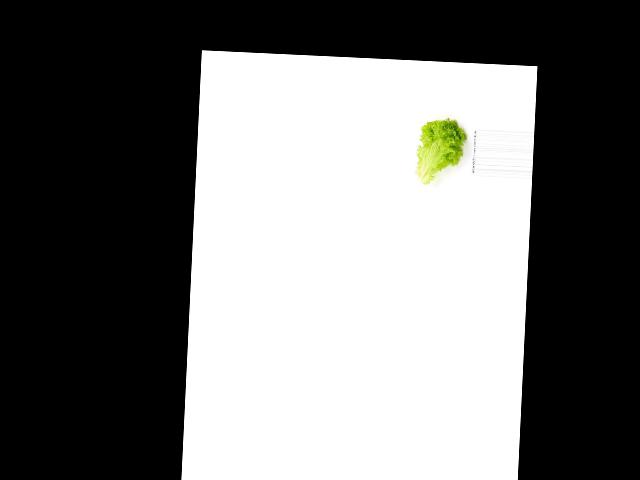lettuce: (412, 114, 467, 185)
